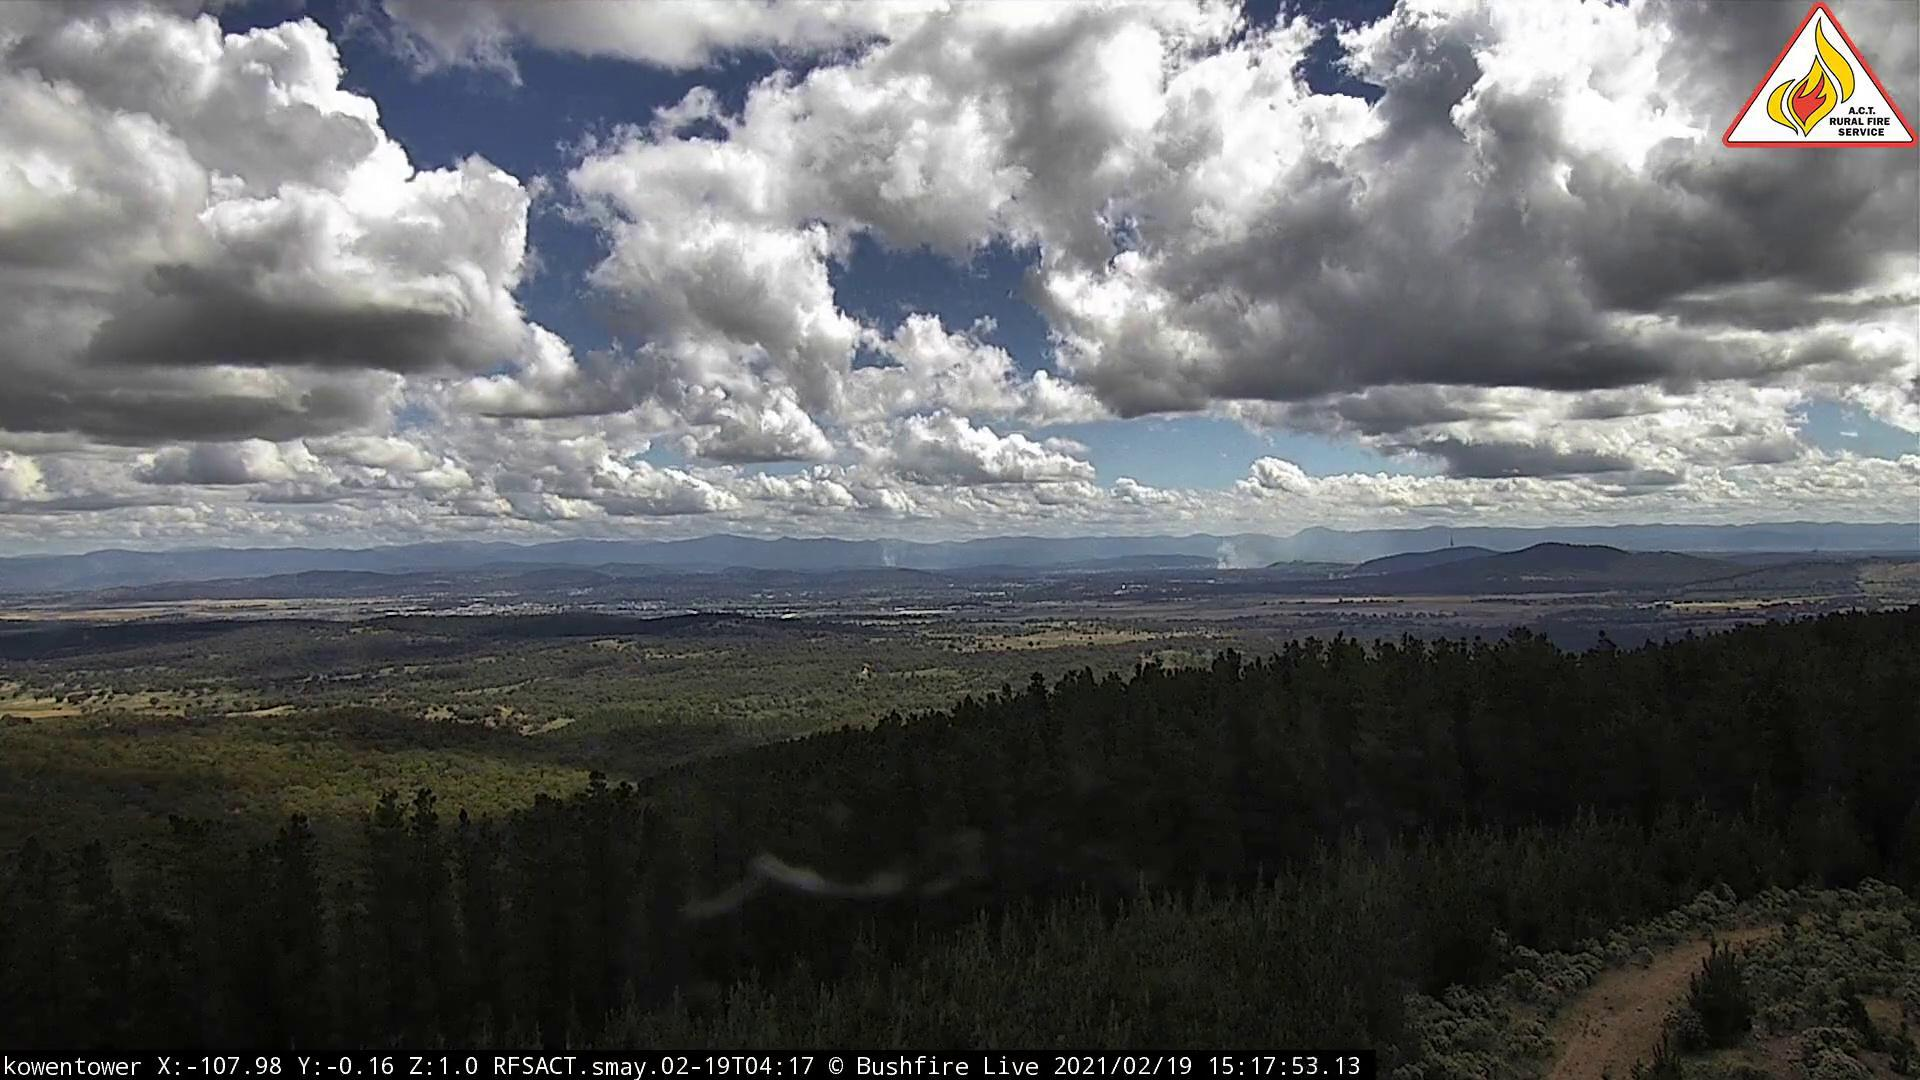instance_salient_object: (1209, 534, 1276, 580), (882, 538, 916, 578)
